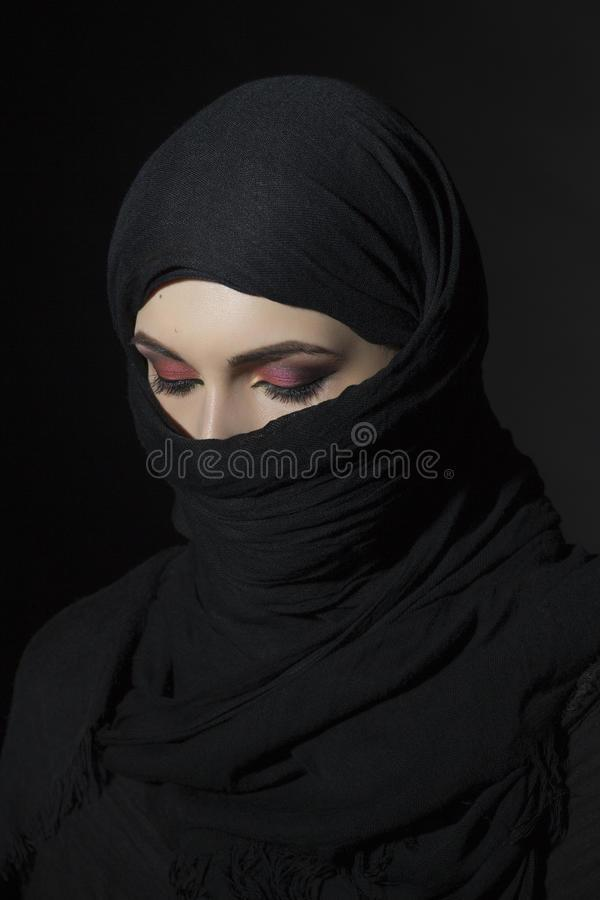No Mask: (109, 104, 478, 724)
